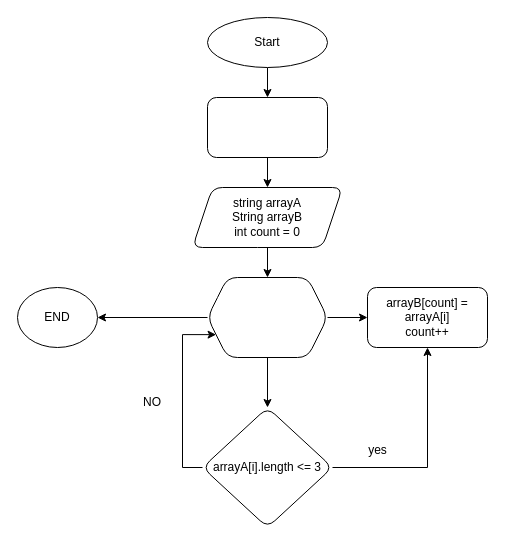
Some shapes in this 505 by 545 pixel diagram are drawn without their labels. The box of each missing label's shape, as (x1, y1, x2, y2) in pixels:
for int i = 0 i < arrayA.length i++: (206, 276, 328, 358)
SArray: (206, 96, 328, 158)
